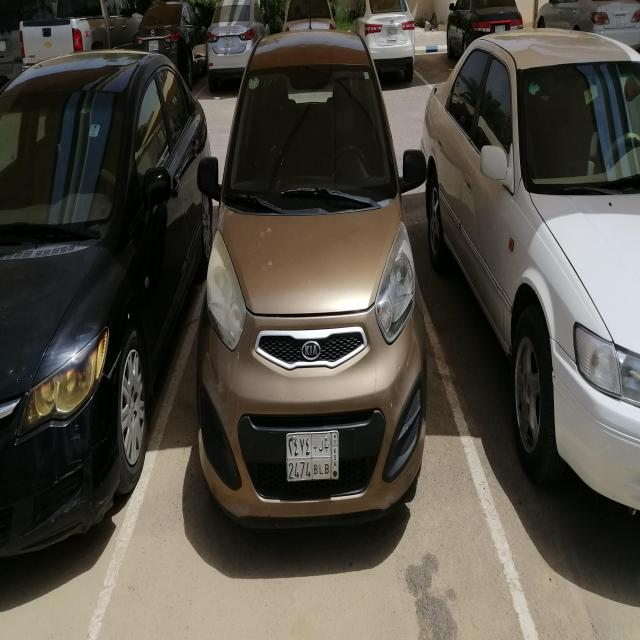license_plate: (286, 431, 338, 480), (387, 29, 397, 41), (224, 36, 234, 48), (148, 40, 158, 51), (495, 25, 505, 34), (0, 41, 6, 51)
